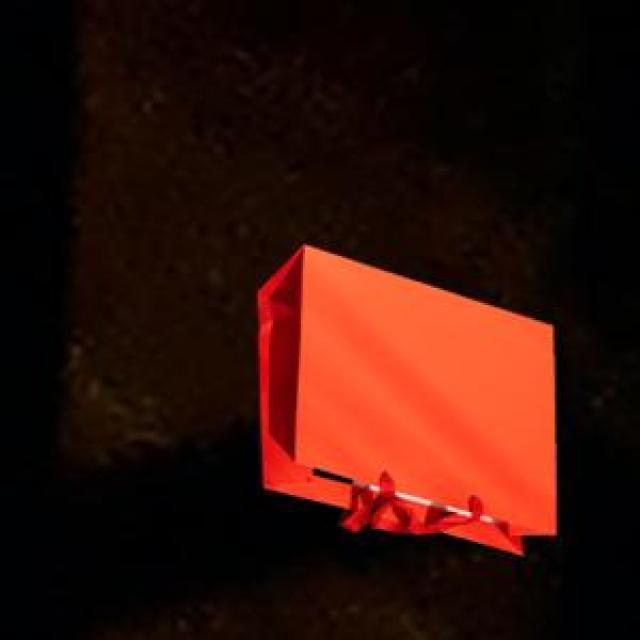paper: (254, 241, 553, 550)
